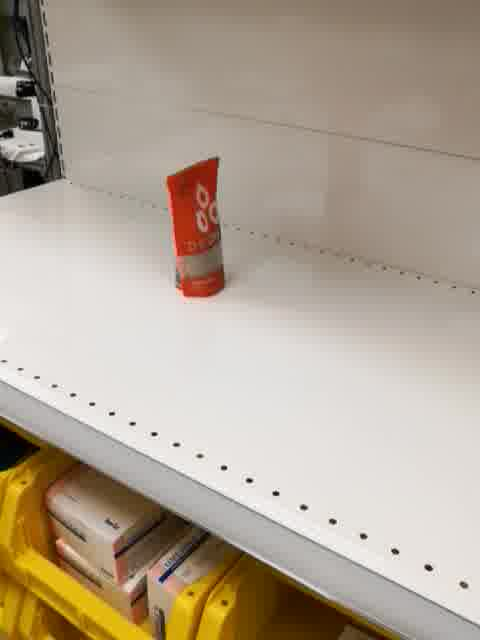whitechia: (165, 154, 227, 299)
